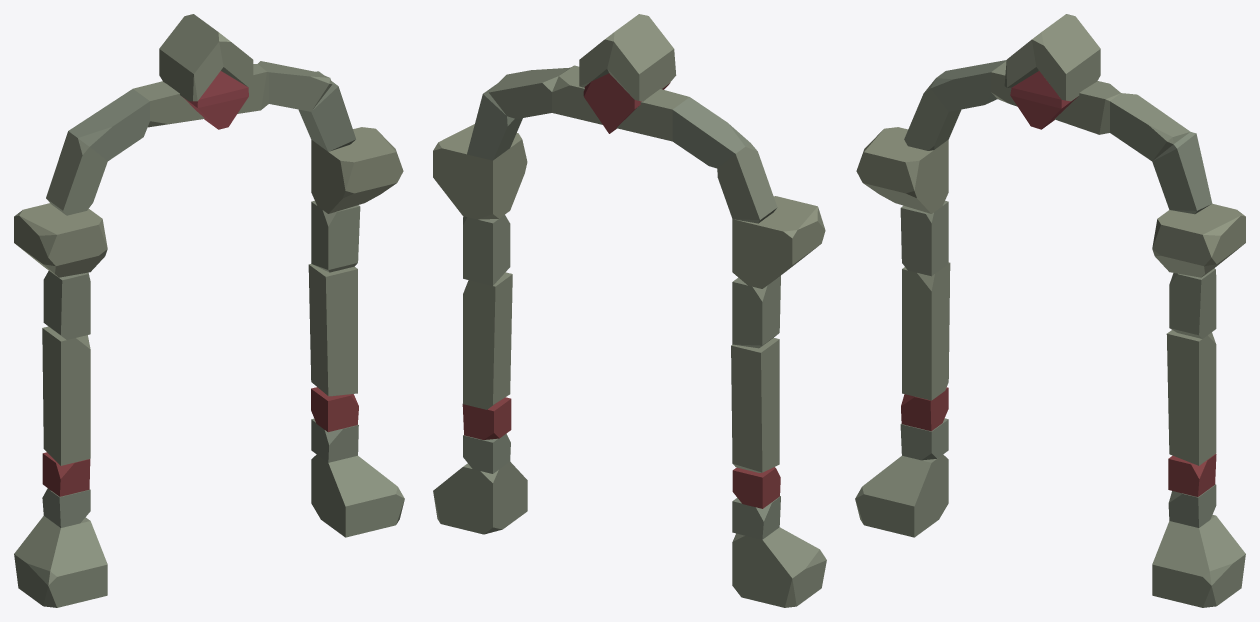
File: door_arch_double_tall.fbx
The picture shows the model from 3 angles, left to right: view 1: azimuth 30°, elevation 25°; view 2: azimuth 150°, elevation 25°; view 3: azimuth 330°, elevation 25°; orthographic projection.
Parts seen in each view (by area): view 1: door_arch_double_tall; view 2: door_arch_double_tall; view 3: door_arch_double_tall.
Boxes of the visible parts, bbox=[...] form: door_arch_double_tall: bbox=[14, 14, 404, 607]; door_arch_double_tall: bbox=[433, 14, 826, 607]; door_arch_double_tall: bbox=[855, 14, 1245, 607].
Size of the model in its own units: 300 by 425 by 57.91.
